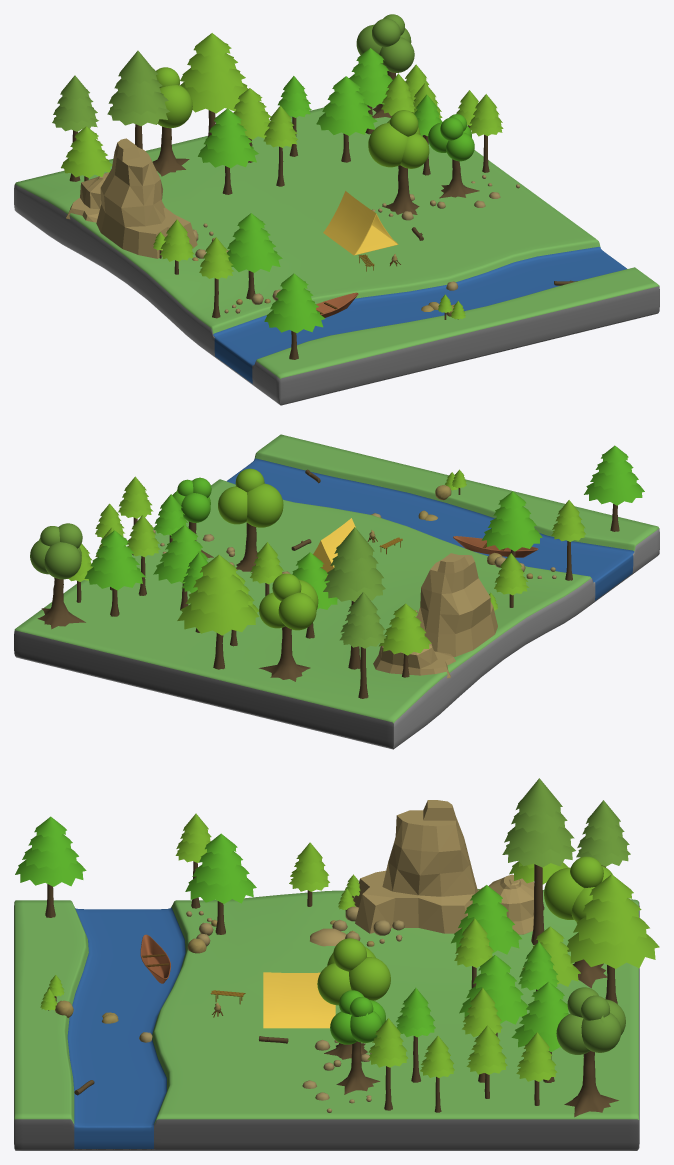
The picture shows the model from 3 angles, top to bottom: view 1: azimuth 30°, elevation 25°; view 2: azimuth 150°, elevation 25°; view 3: azimuth 270°, elevation 25°; orthographic projection. The views are drawn at different scales.
Parts seen in each view (by area): view 1: Box001, Box002, Prism001, Sphere001, Cone114, Cone115, Sphere018, Box003, Cone054, Sphere014, Cone096, Cone067 (+19 smaller); view 2: Box001, Box002, Box003, Cone115, Sphere001, Sphere016, Cone114, Sphere012, Cylinder031, Cone054, Sphere002, Cylinder020 (+22 smaller); view 3: Box001, Box002, Prism001, Cone115, Box003, Cone114, Sphere018, Sphere002, Cone054, Cylinder020, Sphere013, Cone087 (+32 smaller).
Boxes of the visible parts, <box> form: Box001: <box>14,105,659,405</box>; Box002: <box>96,138,197,258</box>; Prism001: <box>323,191,398,255</box>; Sphere001: <box>368,122,407,167</box>; Cone114: <box>180,68,245,93</box>; Cone115: <box>180,82,247,113</box>; Sphere018: <box>157,85,192,128</box>; Box003: <box>66,172,108,222</box>; Cone054: <box>108,91,168,114</box>; Sphere014: <box>379,37,414,72</box>; Cone096: <box>264,310,325,333</box>; Cone067: <box>316,112,377,135</box>; Box001: <box>14,434,659,749</box>; Box002: <box>415,553,497,656</box>; Box003: <box>373,643,455,678</box>; Cone115: <box>177,604,259,635</box>; Sphere001: <box>246,483,283,527</box>; Sphere016: <box>278,592,316,630</box>; Cone114: <box>185,590,251,615</box>; Sphere012: <box>44,542,81,579</box>; Cylinder031: <box>259,626,310,681</box>; Cone054: <box>324,568,383,591</box>; Sphere002: <box>218,486,247,524</box>; Cylinder020: <box>37,578,85,629</box>; Box001: <box>14,889,639,1150</box>; Box002: <box>354,800,477,933</box>; Prism001: <box>263,972,335,1028</box>; Cone115: <box>567,932,659,968</box>; Box003: <box>478,874,534,934</box>; Cone114: <box>573,916,649,945</box>; Sphere018: <box>544,867,583,919</box>; Sphere002: <box>349,957,390,1000</box>; Cone054: <box>504,826,574,853</box>; Cylinder020: <box>564,1051,618,1117</box>; Sphere013: <box>581,1013,621,1052</box>; Cone087: <box>185,877,256,903</box>.
Bounding box in the file's own units: 2.09 × 0.8936 × 2.58.
